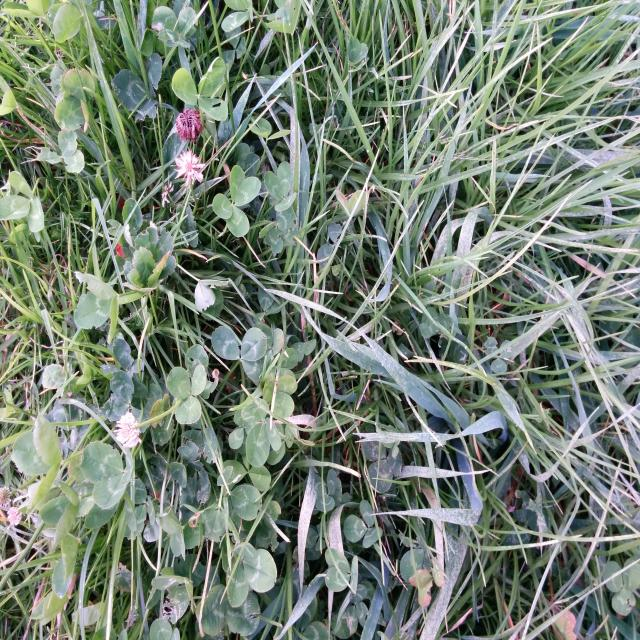Four Leaf Clover: (212, 164, 261, 238)
